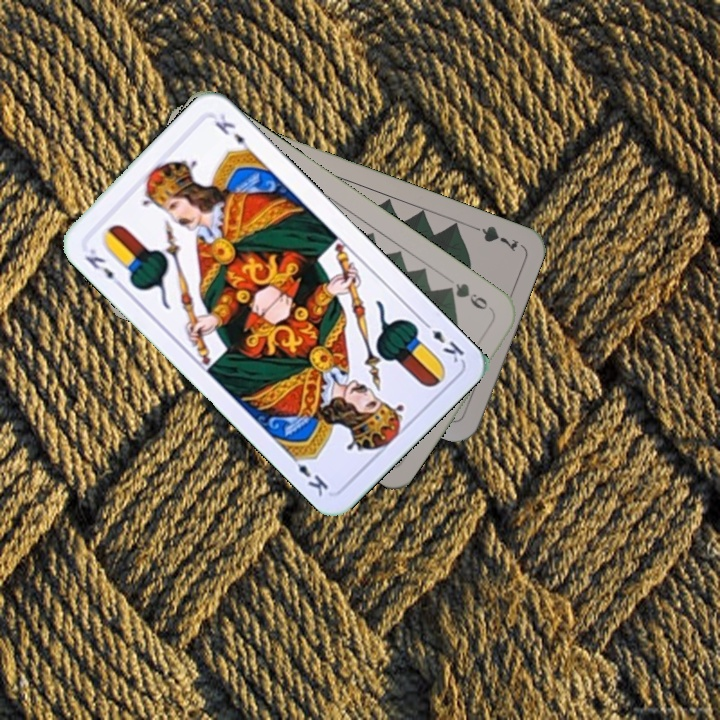EK: (418, 316, 467, 366), (80, 244, 126, 291)
G7: (464, 220, 521, 255)
G9: (441, 278, 497, 315)
